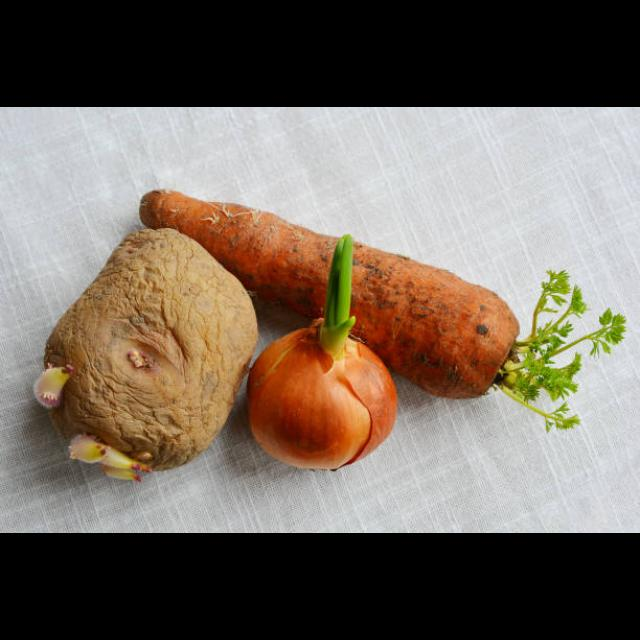Sprouted potato: (30, 220, 262, 490)
